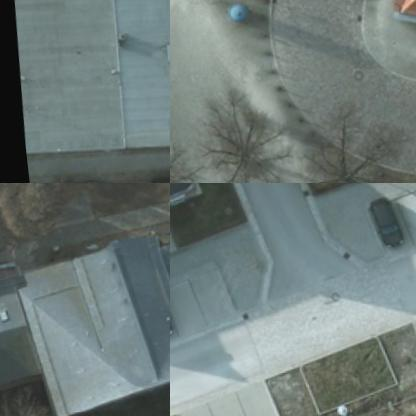car: (360, 200, 400, 258), (407, 324, 415, 377)
